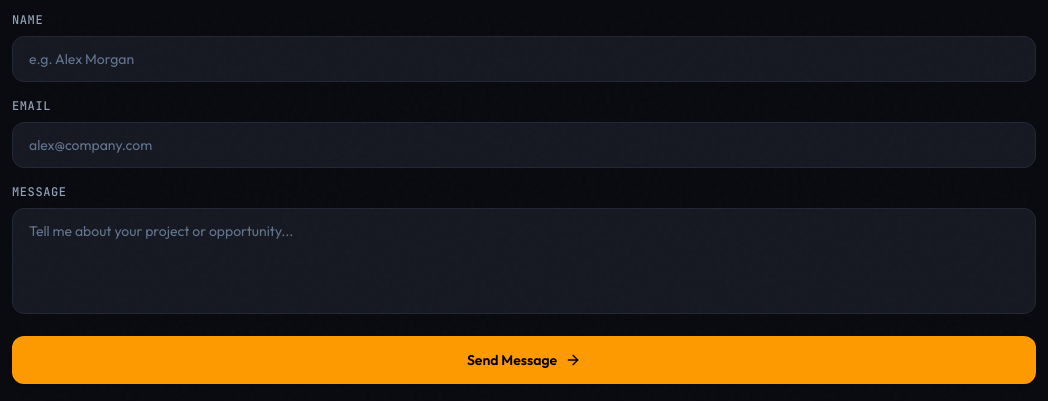
submits to Web3Forms and shows success message
Type "Ada" into the field labelled "Name" at (524, 59), box [12,36,1036,82]
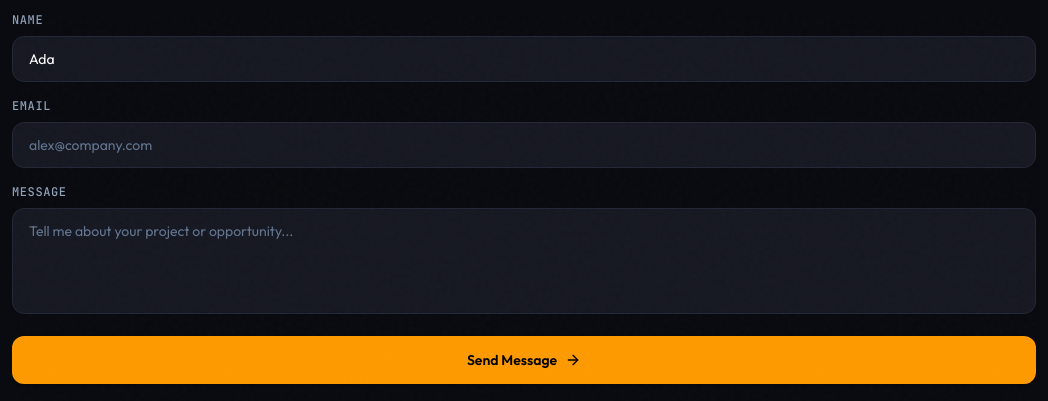
Type "ada@example.com" into the field labelled "Email" at (524, 145), box [12,122,1036,168]
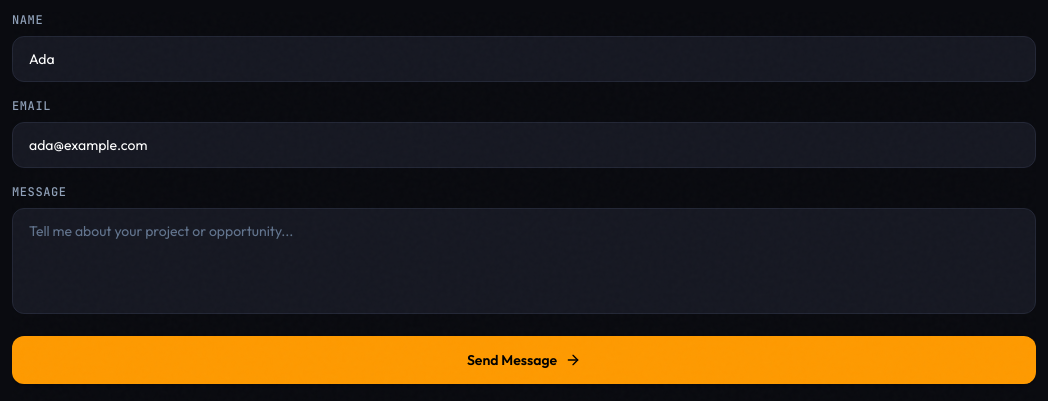
Type "Hello!" into the text box labelled "Message" at (524, 261), box [12,208,1036,314]
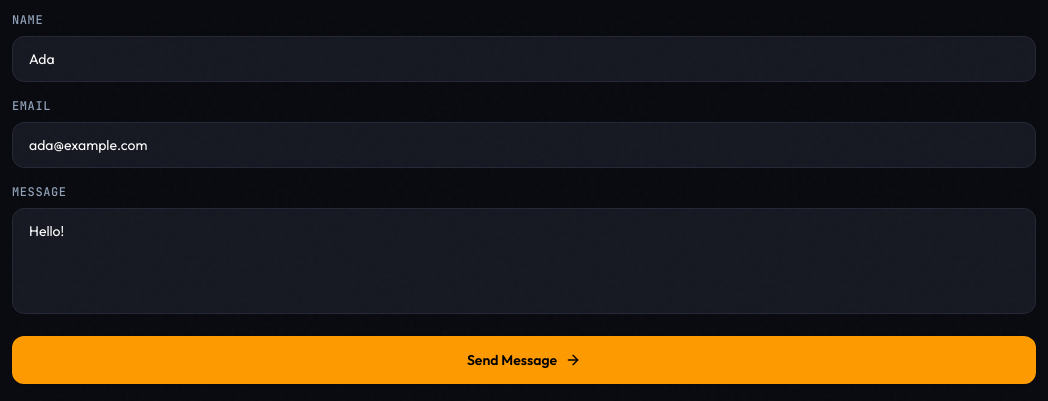
Click the button "Send Message" at (524, 360), box [12,336,1036,384]
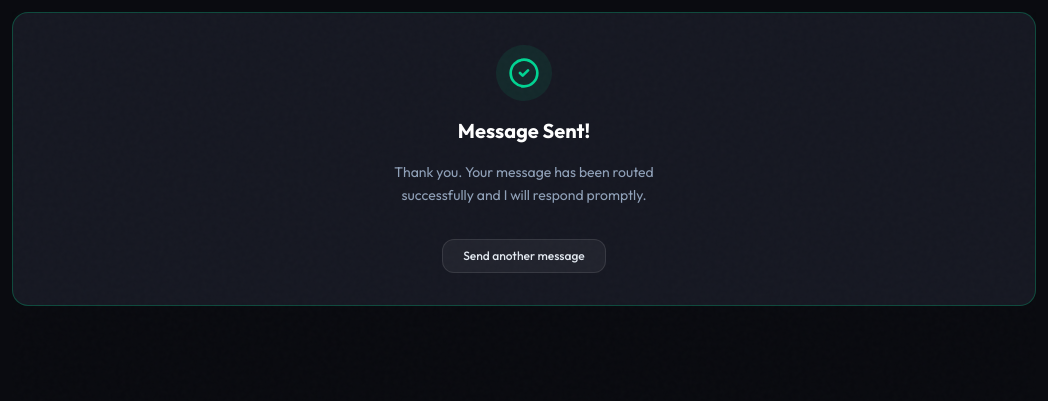
Expected: the heading "Message Sent!" is shown, [458,117,590,145]
